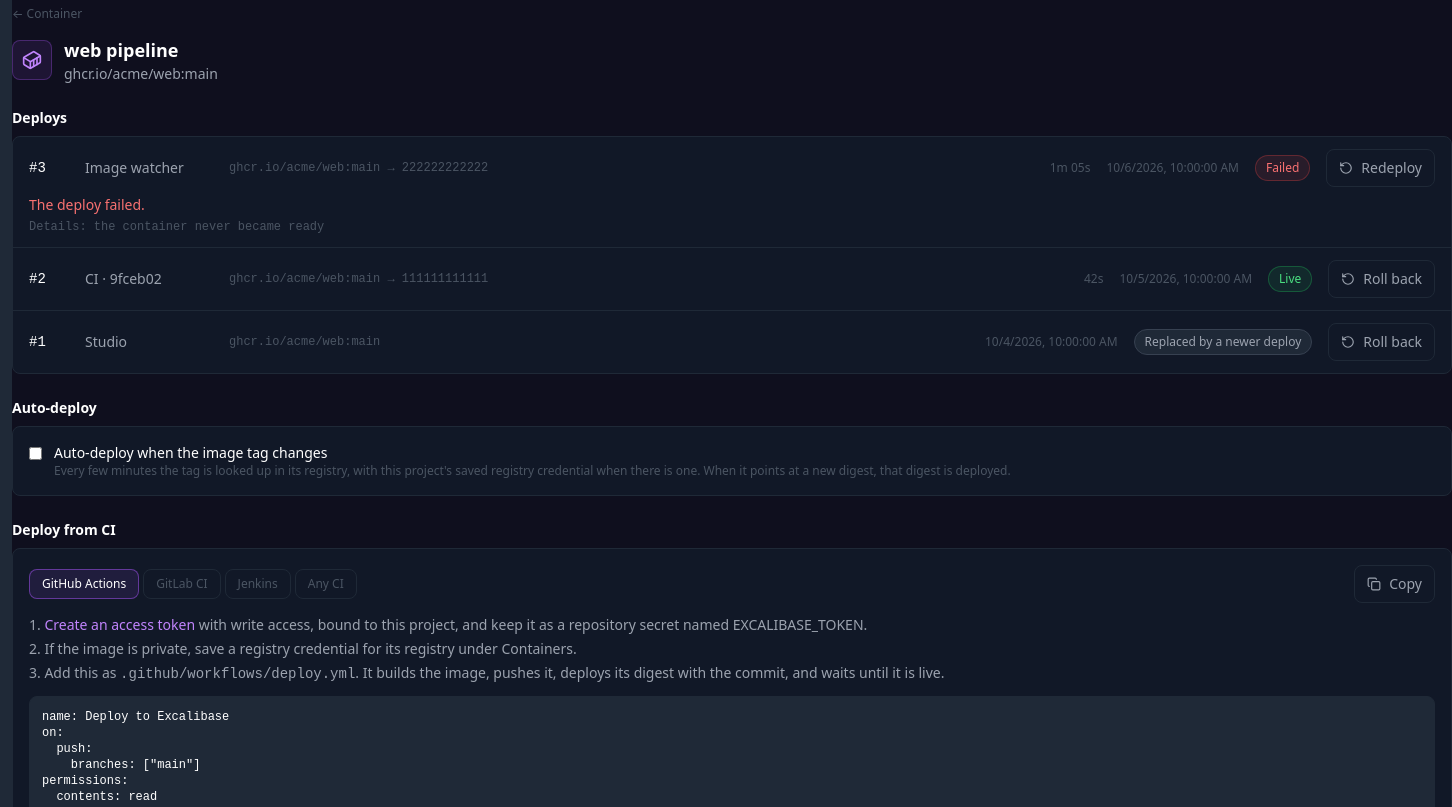
Test case: ContainerPipelinePage › the gitlab setup is one tab away, filled in for this app
Click the tab "GitLab CI" at (182, 584), box [143,569,221,599]
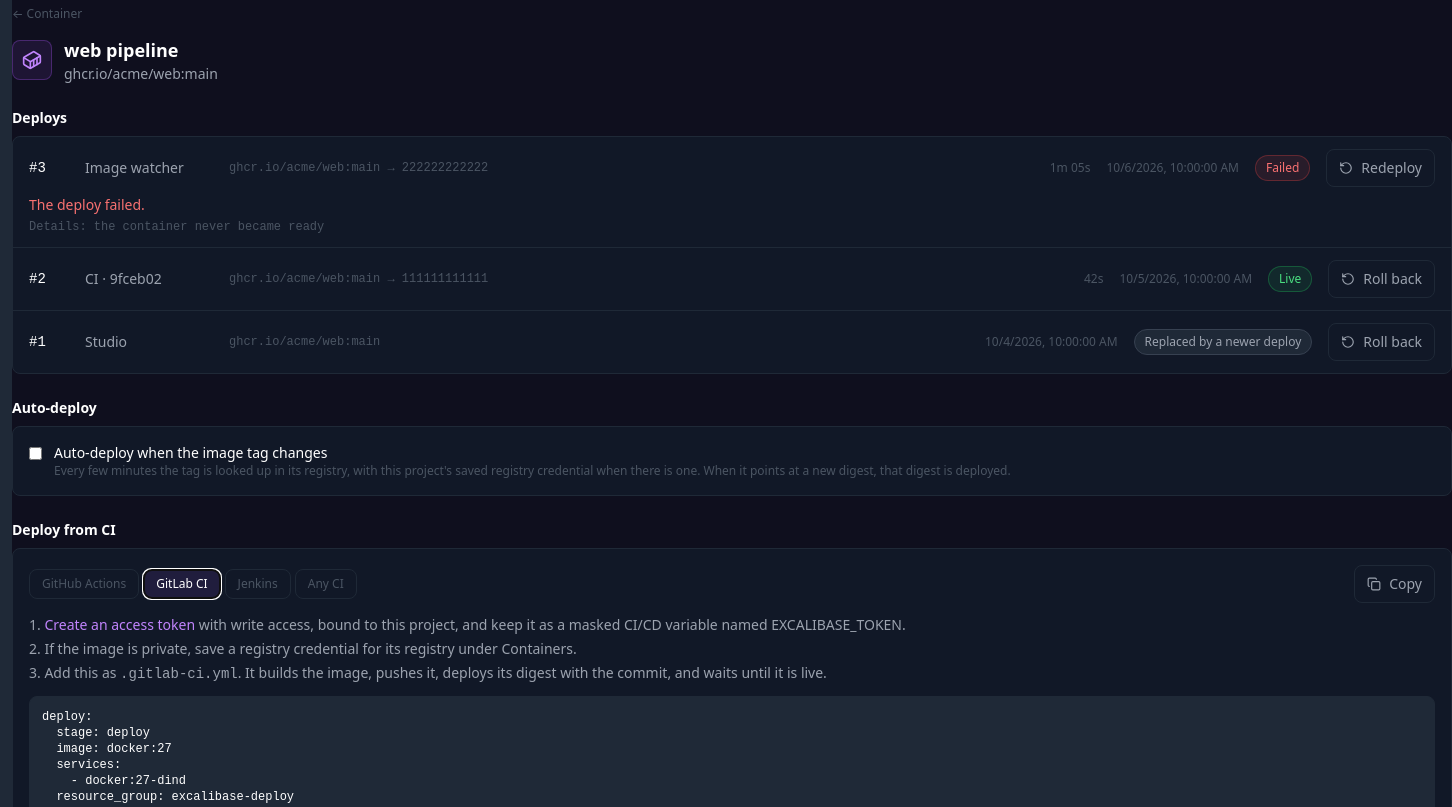
Now the text with test id "ci-file" reads ".gitlab-ci.yml", box [120,666,238,682]
Now the text with test id "ci-secret" shows "masked CI/CD variable", box [557,615,902,634]
